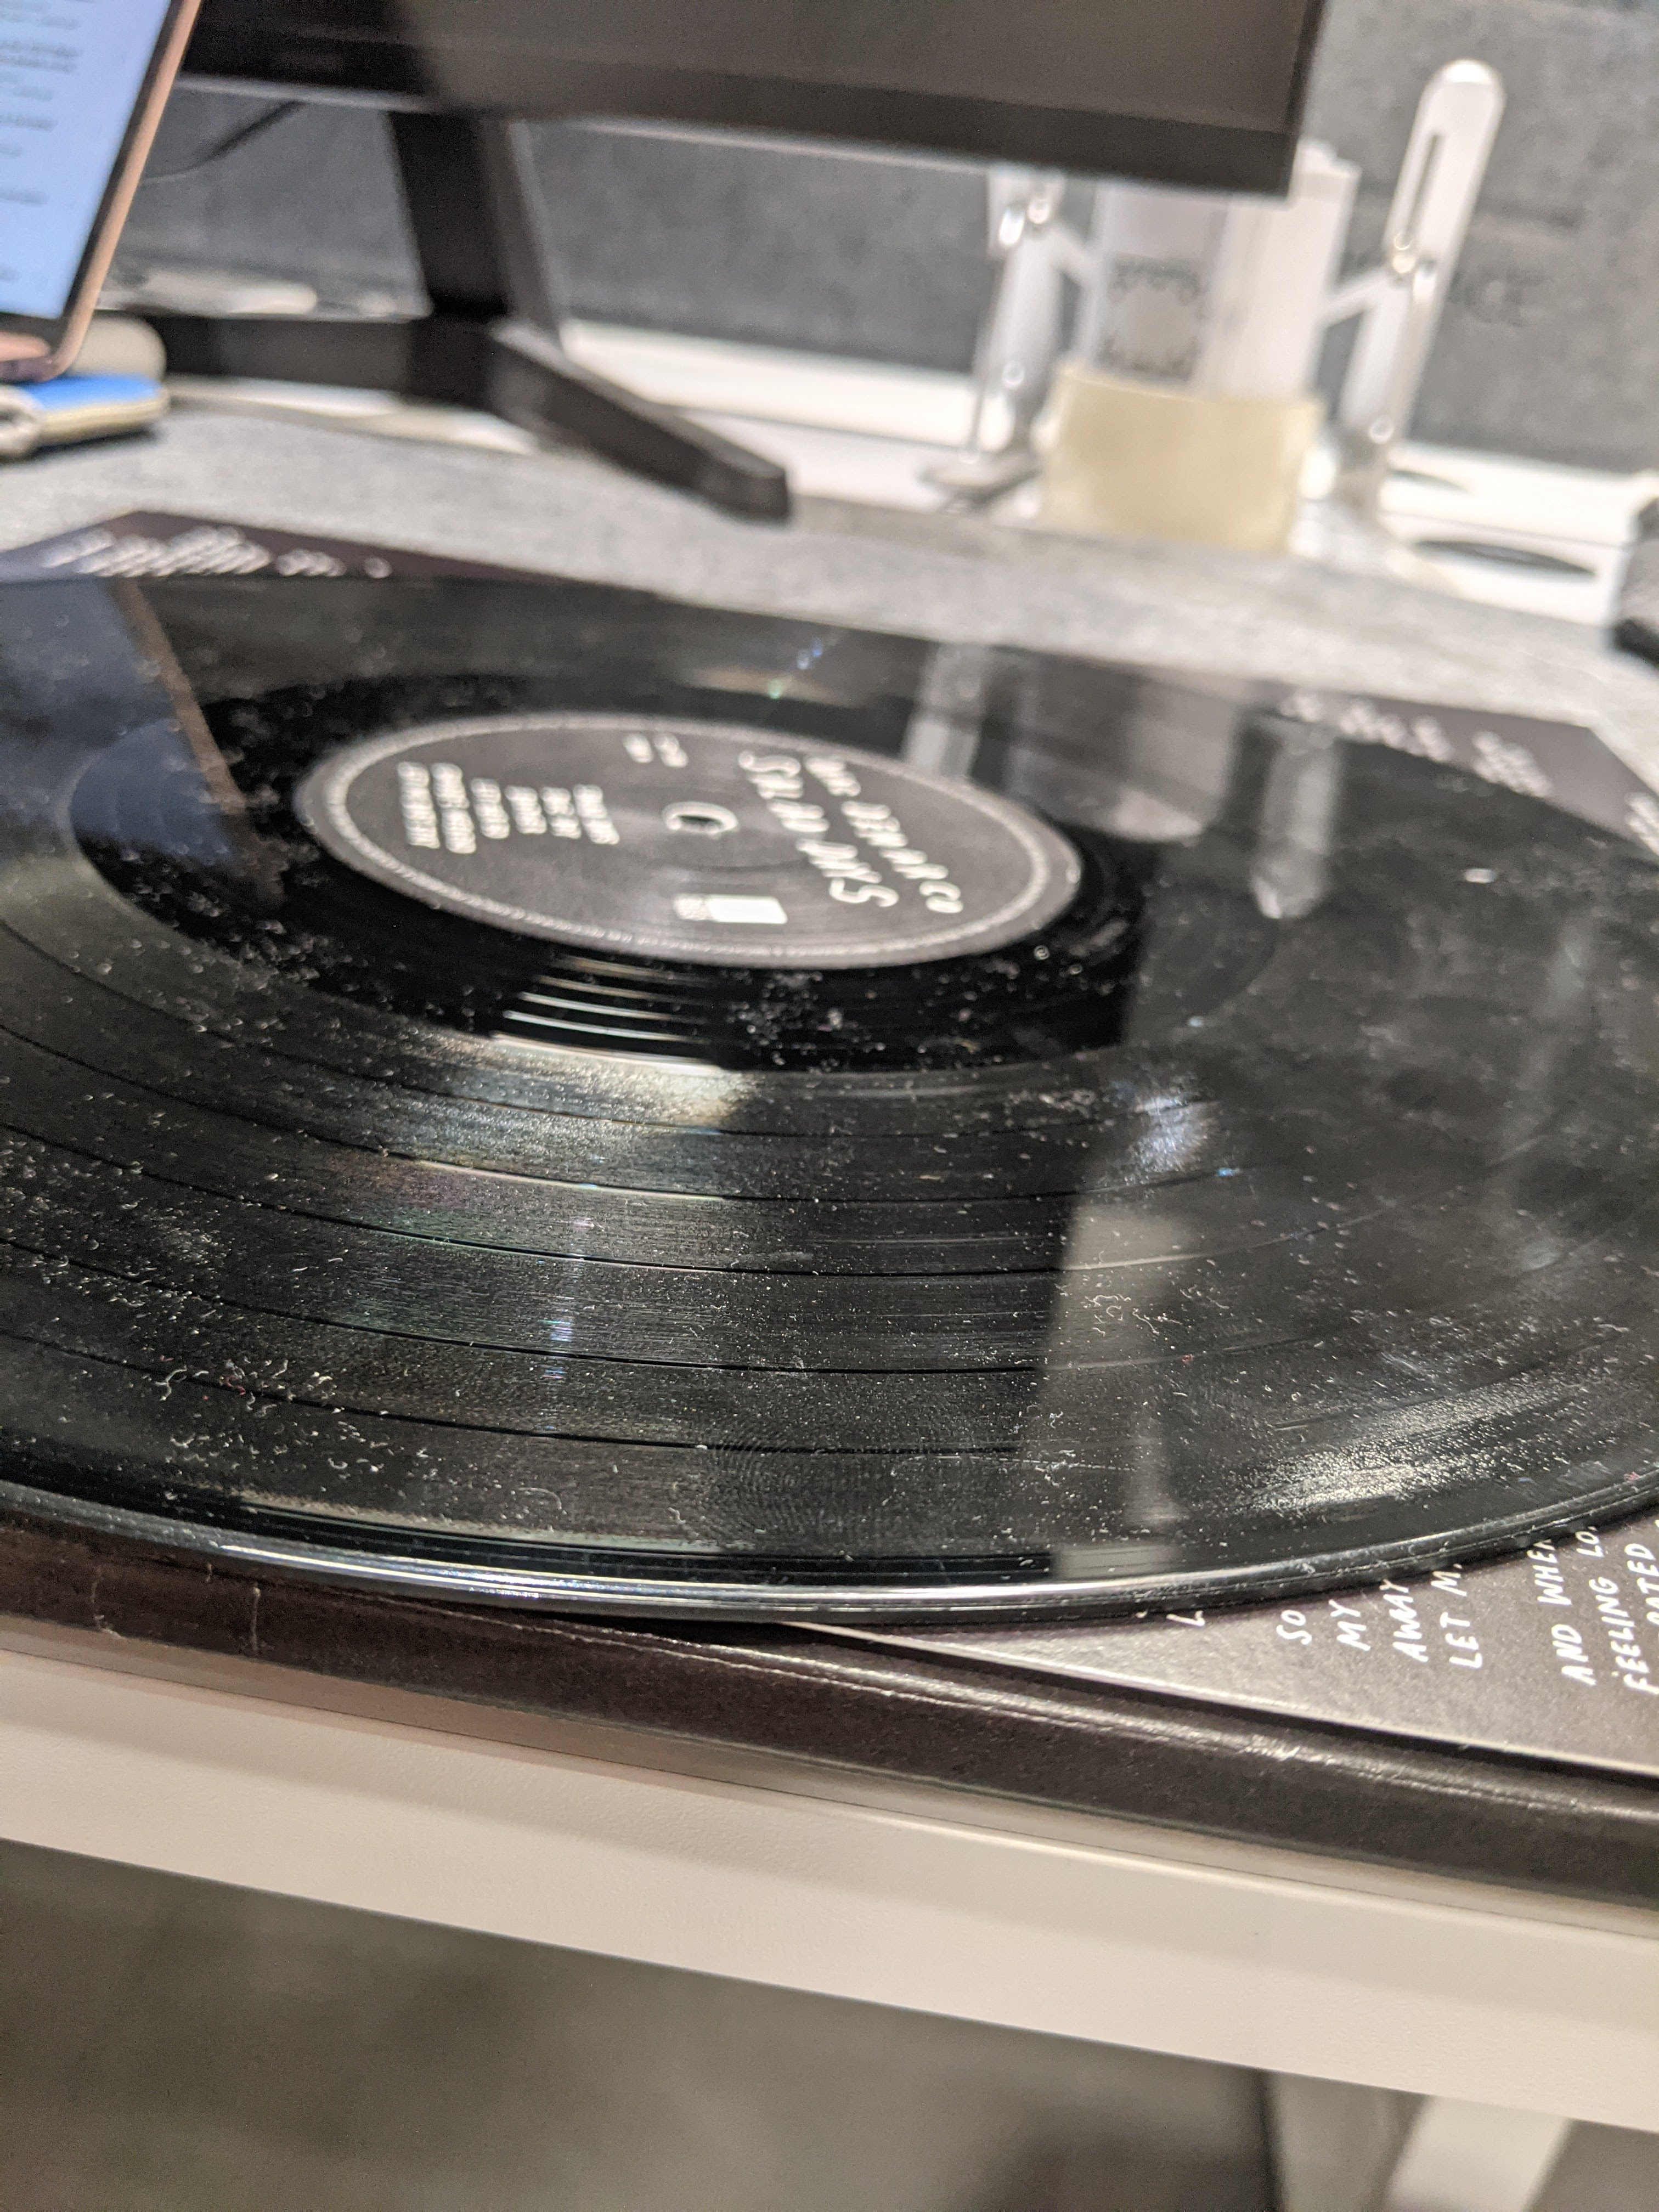song_edge: (579, 1386, 838, 1505), (605, 1318, 850, 1413), (491, 1136, 697, 1237), (741, 1099, 943, 1174), (789, 1240, 953, 1310)
